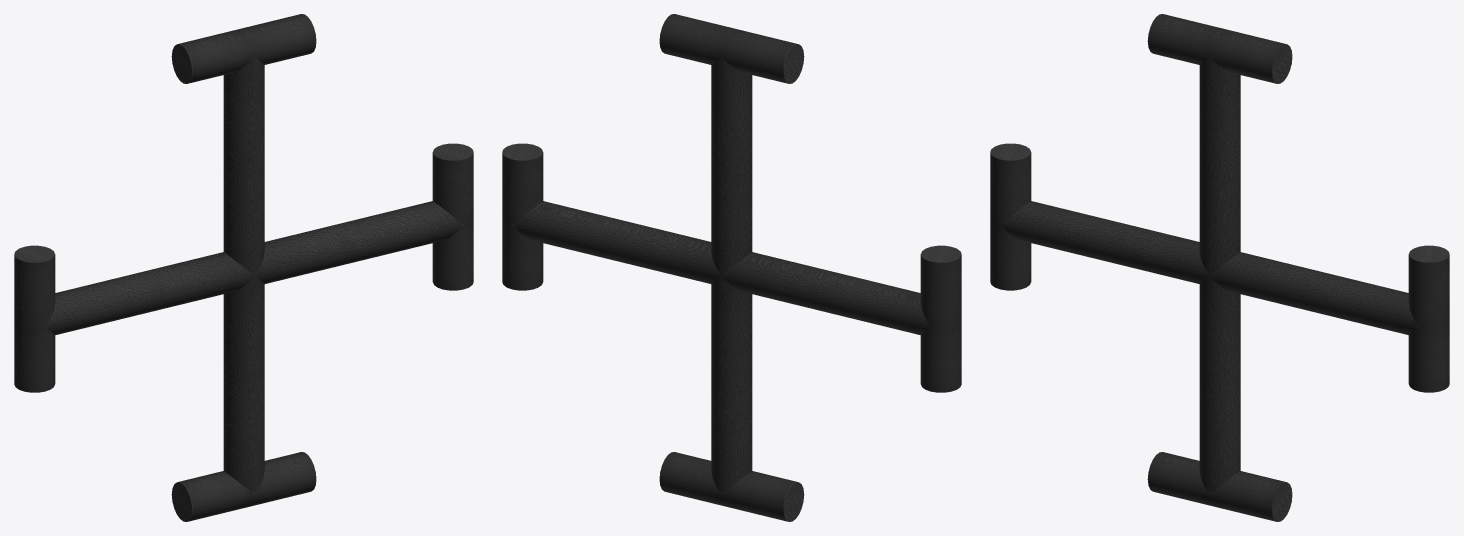
Rendered from SteeringWheel.FBX.
3 views of the same model, side by side, from view 1: azimuth 30°, elevation 25°; view 2: azimuth 150°, elevation 25°; view 3: azimuth 330°, elevation 25° (orthographic).
Visible parts, largest first — view 1: Cylinder027, Cylinder022, Cylinder024, Cylinder026, Cylinder023, Cylinder025; view 2: Cylinder027, Cylinder022, Cylinder024, Cylinder026, Cylinder023, Cylinder025; view 3: Cylinder027, Cylinder022, Cylinder023, Cylinder026, Cylinder024, Cylinder025.
Boxes of the visible parts, x1=… form: Cylinder027: x1=223, y1=57, x2=264, y2=494; Cylinder022: x1=45, y1=201, x2=463, y2=335; Cylinder024: x1=14, y1=245, x2=55, y2=392; Cylinder026: x1=171, y1=14, x2=316, y2=83; Cylinder023: x1=432, y1=143, x2=473, y2=290; Cylinder025: x1=171, y1=452, x2=316, y2=521; Cylinder027: x1=711, y1=57, x2=752, y2=494; Cylinder022: x1=512, y1=201, x2=930, y2=335; Cylinder024: x1=920, y1=245, x2=961, y2=392; Cylinder026: x1=659, y1=14, x2=804, y2=83; Cylinder023: x1=502, y1=143, x2=543, y2=290; Cylinder025: x1=659, y1=452, x2=804, y2=521; Cylinder027: x1=1199, y1=57, x2=1240, y2=493; Cylinder022: x1=1001, y1=201, x2=1418, y2=335; Cylinder023: x1=1408, y1=245, x2=1449, y2=392; Cylinder026: x1=1147, y1=14, x2=1292, y2=83; Cylinder024: x1=990, y1=143, x2=1031, y2=290; Cylinder025: x1=1147, y1=452, x2=1292, y2=521.
Bounding box in the file's own units: 51.87 × 51.87 × 4.06.
Materials: 1 (1 with a texture image).
